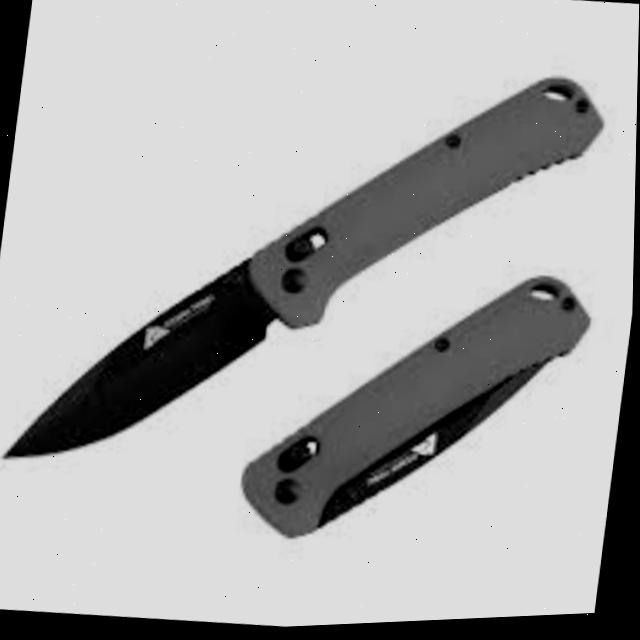Knife: (2, 24, 610, 517)
